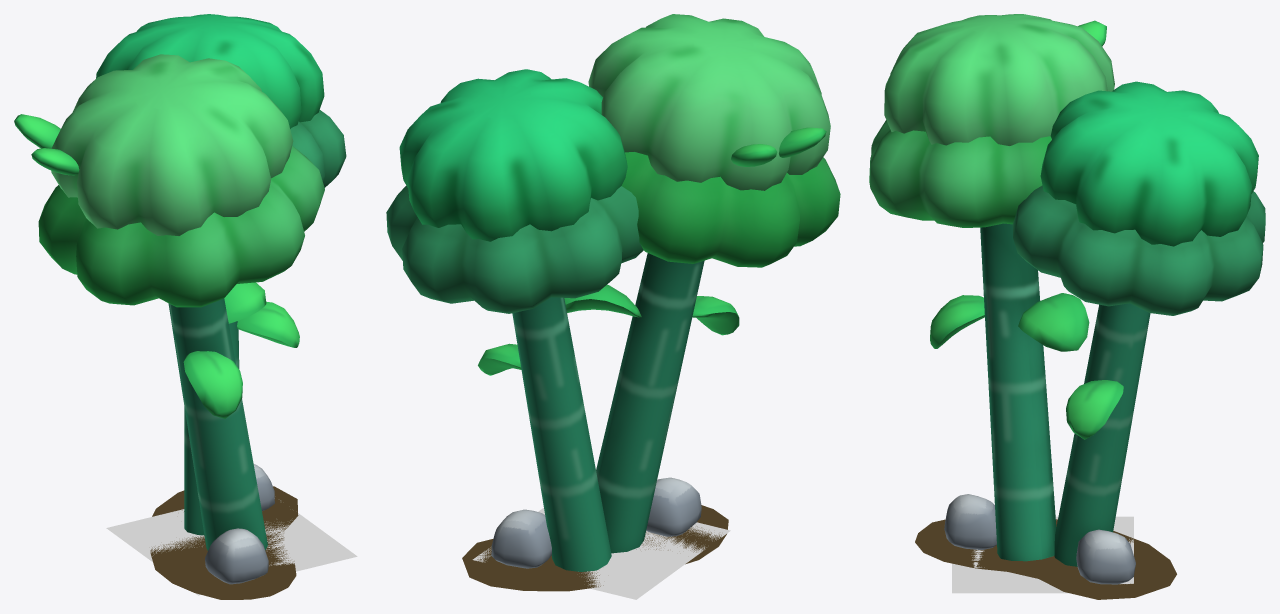
Rendered from JP_Bamboo.fbx.
3 views of the same model, side by side, from view 1: azimuth 30°, elevation 25°; view 2: azimuth 150°, elevation 25°; view 3: azimuth 270°, elevation 25° (orthographic). The views are drawn at different scales.
Visible parts, largest first — view 1: polySurface13, polySurface7, Shadow, Bamboo_Grid; view 2: polySurface13, polySurface7, Shadow, Bamboo_Grid; view 3: polySurface13, polySurface7, Shadow, Bamboo_Grid.
Part boxes in pixels (box(x1,y1,x2,y2)): polySurface13: box(14, 14, 346, 307); polySurface7: box(168, 282, 299, 584); Shadow: box(150, 486, 298, 599); Bamboo_Grid: box(106, 500, 357, 595); polySurface13: box(386, 14, 840, 313); polySurface7: box(478, 253, 739, 571); Shadow: box(462, 505, 728, 591); Bamboo_Grid: box(472, 508, 730, 599); polySurface13: box(869, 14, 1265, 315); polySurface7: box(930, 223, 1150, 584); Shadow: box(915, 519, 1176, 599); Bamboo_Grid: box(952, 516, 1133, 593).
Size of the model in its own units: 2.16 by 3.02 by 2.18.
